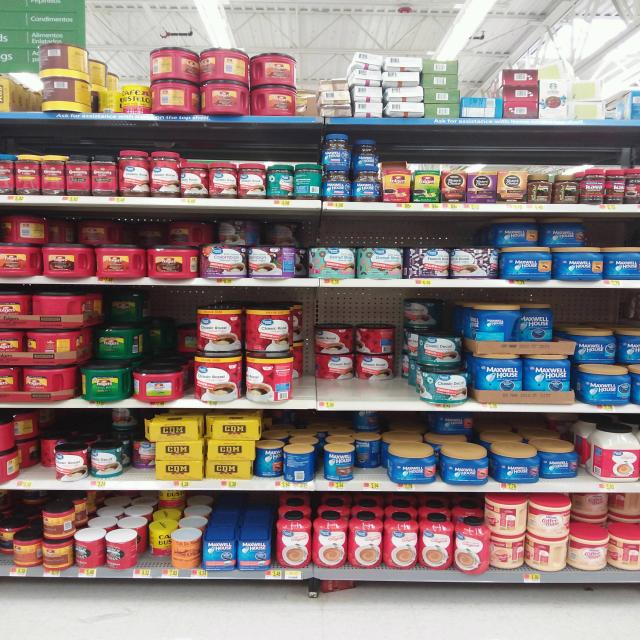unorganised: (356, 319, 394, 380), (316, 327, 357, 376), (108, 284, 153, 323), (93, 327, 144, 360), (490, 215, 542, 247), (541, 215, 590, 246), (570, 490, 613, 525), (265, 214, 312, 246), (168, 215, 214, 247), (214, 217, 258, 248), (142, 419, 206, 440), (77, 218, 124, 245), (433, 409, 475, 434), (144, 525, 174, 556), (352, 407, 386, 432), (131, 435, 157, 466), (171, 327, 197, 357), (357, 438, 382, 469), (110, 407, 138, 433), (162, 490, 181, 508)
